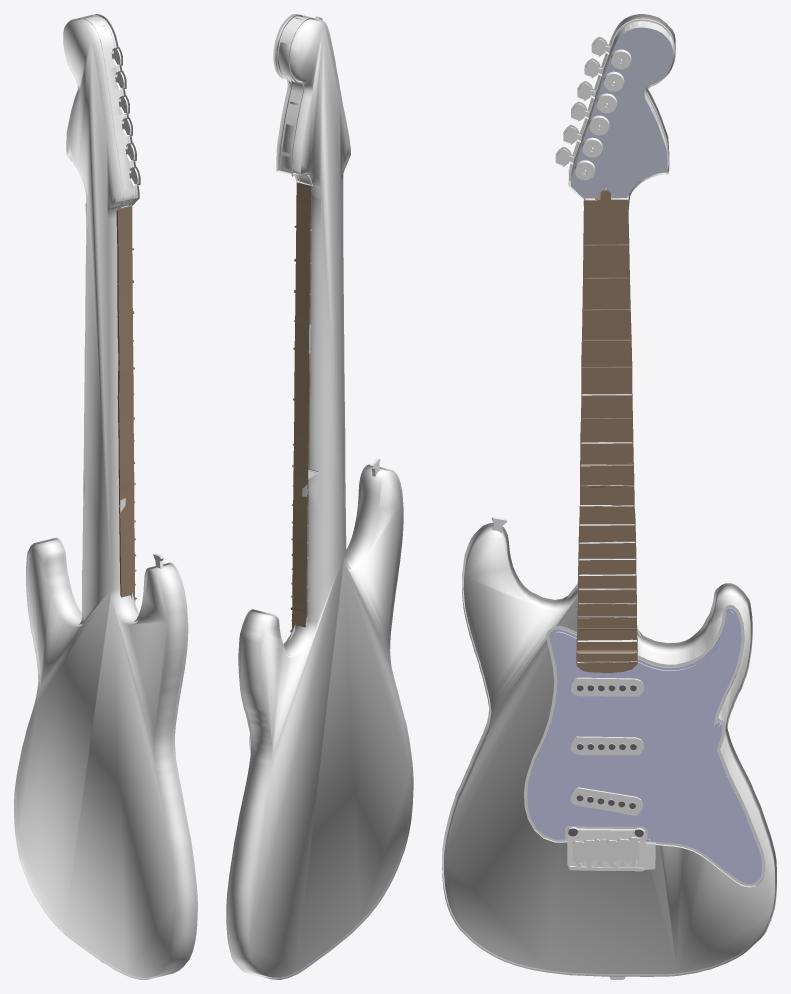
The model's file is GuitareV3.glb.
3 views of the same model, side by side, from view 1: azimuth 30°, elevation 25°; view 2: azimuth 150°, elevation 25°; view 3: azimuth 270°, elevation 25° (orthographic). The views are drawn at different scales.
Visible parts, largest first — view 1: GuitareV3; view 2: GuitareV3; view 3: GuitareV3.
Part boxes in pixels (x1,y1,x2,y2): GuitareV3: (14, 14, 197, 979); GuitareV3: (226, 14, 413, 979); GuitareV3: (442, 14, 776, 979).
Size of the model in its own units: 0.2114 by 6.25 by 1.97.
